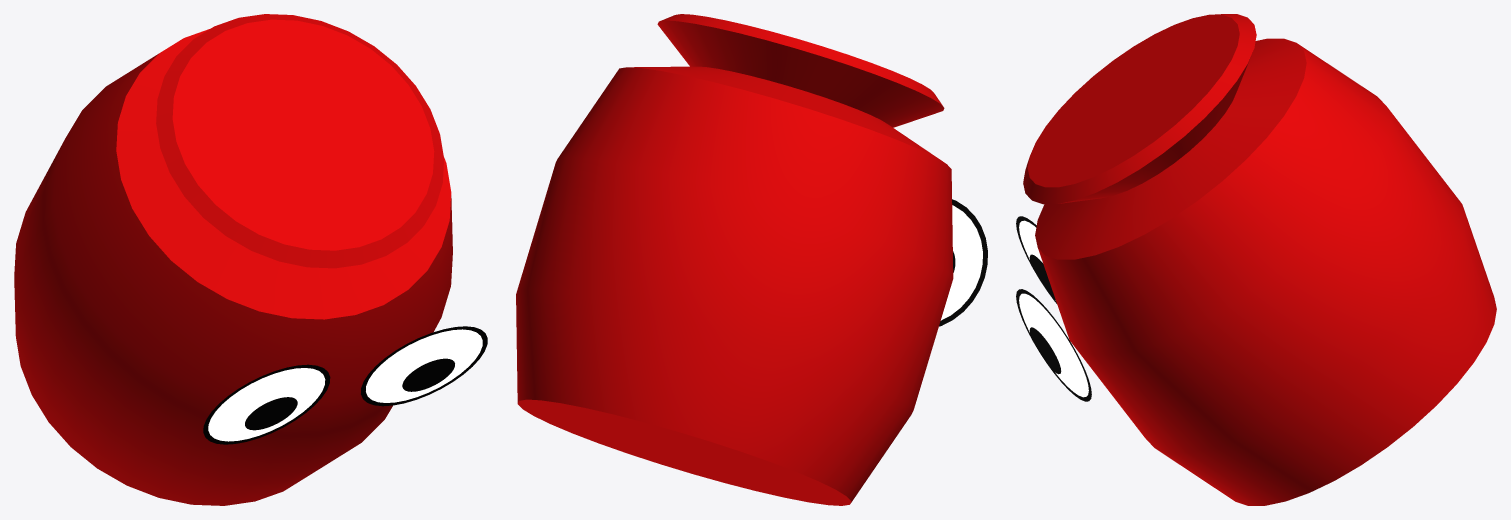
Rendered from Barrel.glb.
3 views of the same model, side by side, from view 1: azimuth 30°, elevation 25°; view 2: azimuth 150°, elevation 25°; view 3: azimuth 270°, elevation 25° (orthographic). The views are drawn at different scales.
Visible parts, largest first — view 1: Barrel; view 2: Barrel; view 3: Barrel.
Part boxes in pixels (x1=…): Barrel: x1=14, y1=14, x2=487, y2=505; Barrel: x1=516, y1=14, x2=987, y2=505; Barrel: x1=1016, y1=14, x2=1496, y2=505.
Size of the model in its own units: 2.38 by 2.98 by 2.9.
